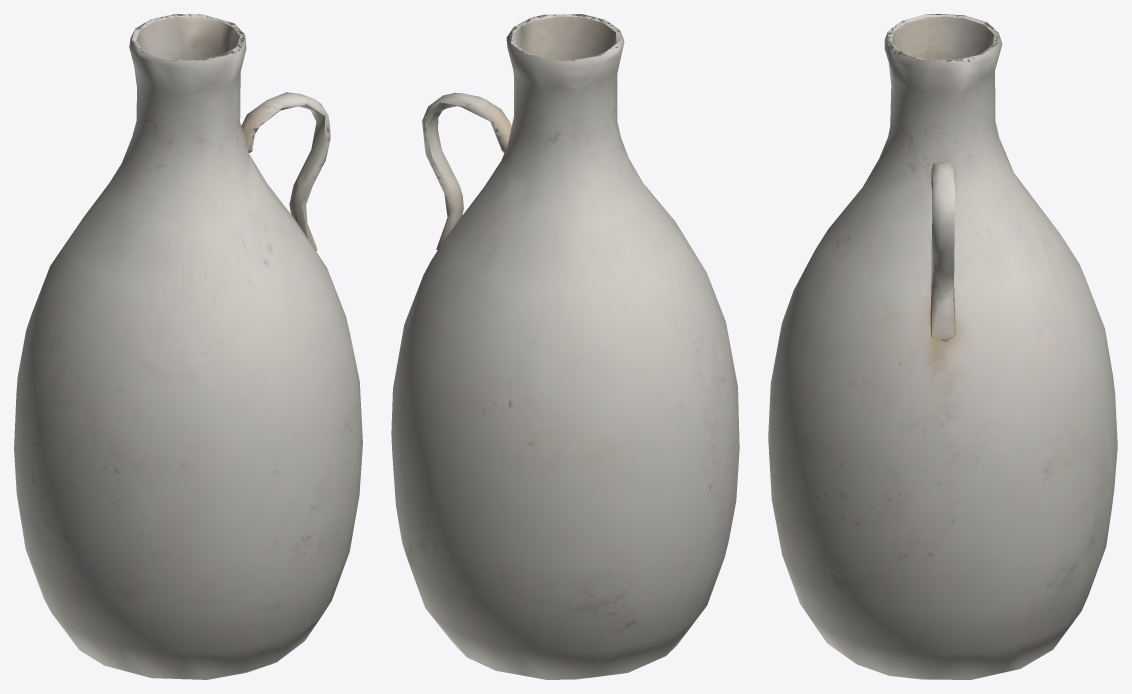
File: urn_white.glb
3 renders of one model, left to right at view 1: azimuth 30°, elevation 25°; view 2: azimuth 150°, elevation 25°; view 3: azimuth 270°, elevation 25°, orthographic.
Parts seen in each view (by area): view 1: urn_white; view 2: urn_white; view 3: urn_white.
Part boxes in pixels (x1=…): urn_white: x1=14, y1=14, x2=362, y2=679; urn_white: x1=391, y1=14, x2=739, y2=679; urn_white: x1=768, y1=14, x2=1117, y2=679.
Size of the model in its own units: 0.371 by 0.7 by 0.371.
1 material, 1 textured.
